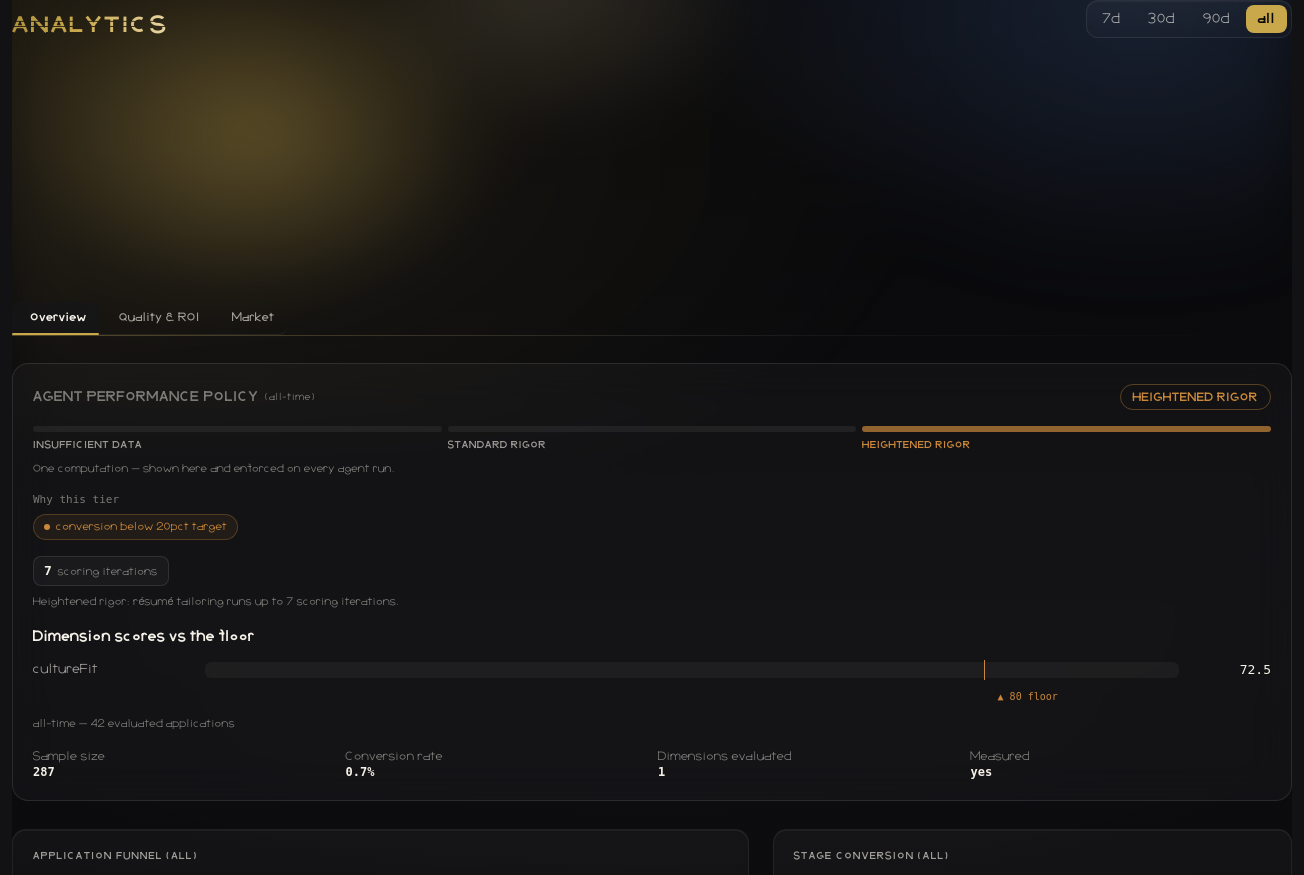
Scenario: the band is above the tabs, on every tab › stays mounted with the same five tiles after switching to another view
Click the tab "Market". click: (250,318)
box: [214,302,286,334]
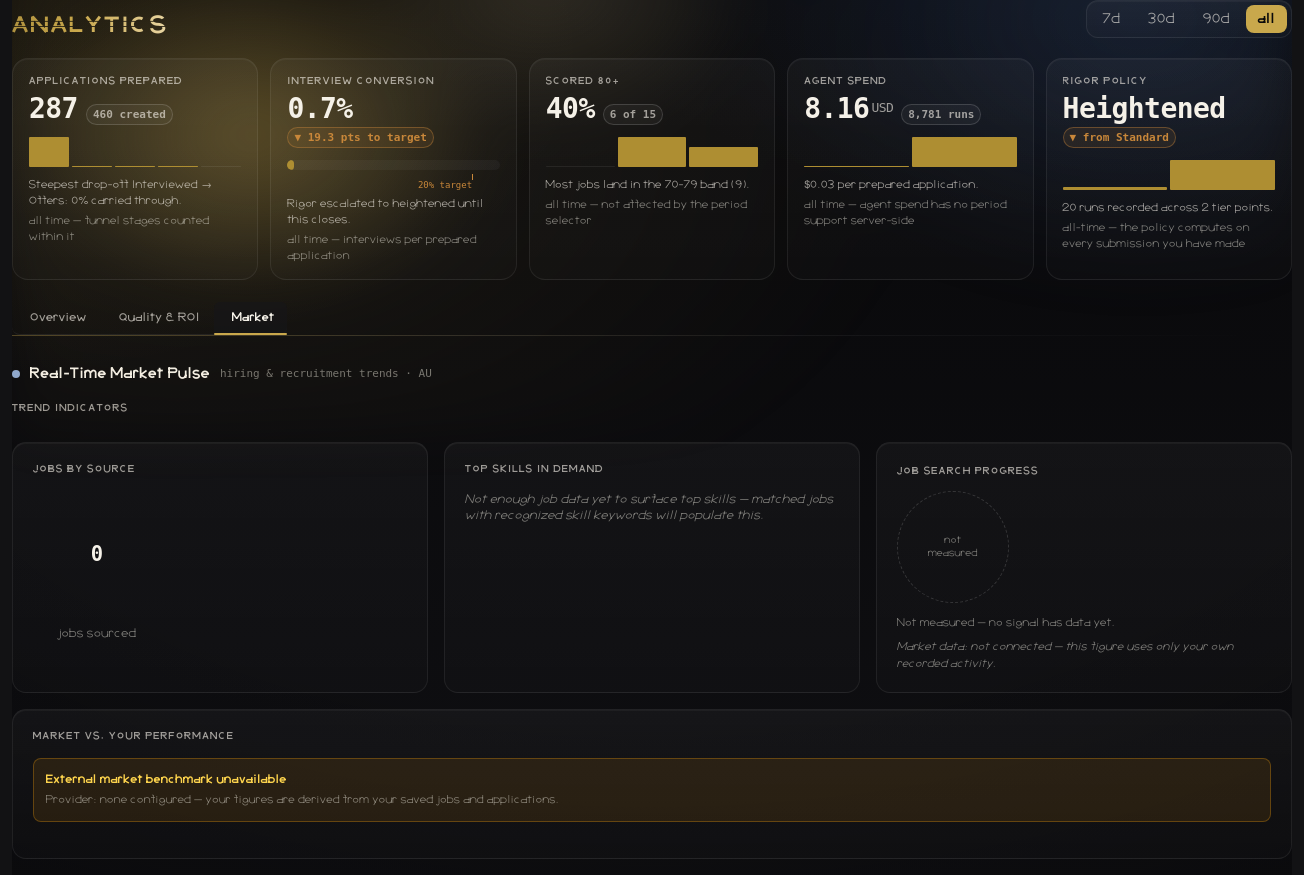
Result: the element with test id "exec-tile-pipeline" is shown at [12,58,258,280]
Result: the element with test id "exec-tile-conversion" is shown at [270,58,517,280]
Result: the element with test id "exec-tile-quality" is shown at [529,58,775,280]
